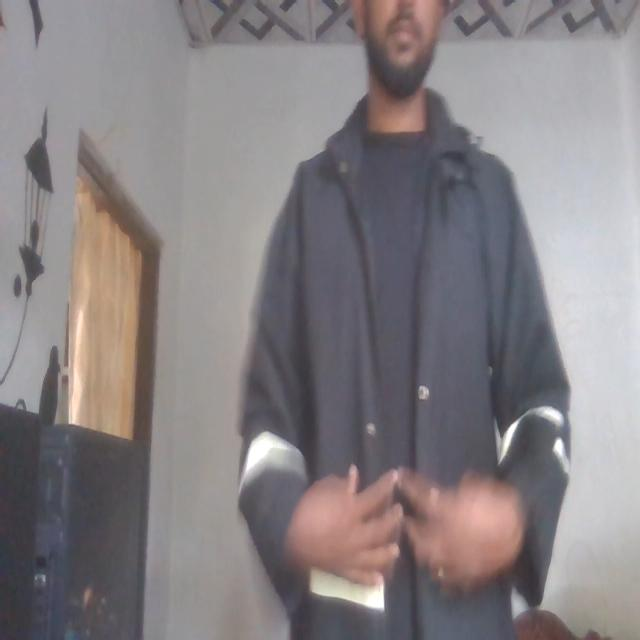Jacket_Wearer: (242, 82, 568, 640)
Person: (237, 0, 571, 640)
